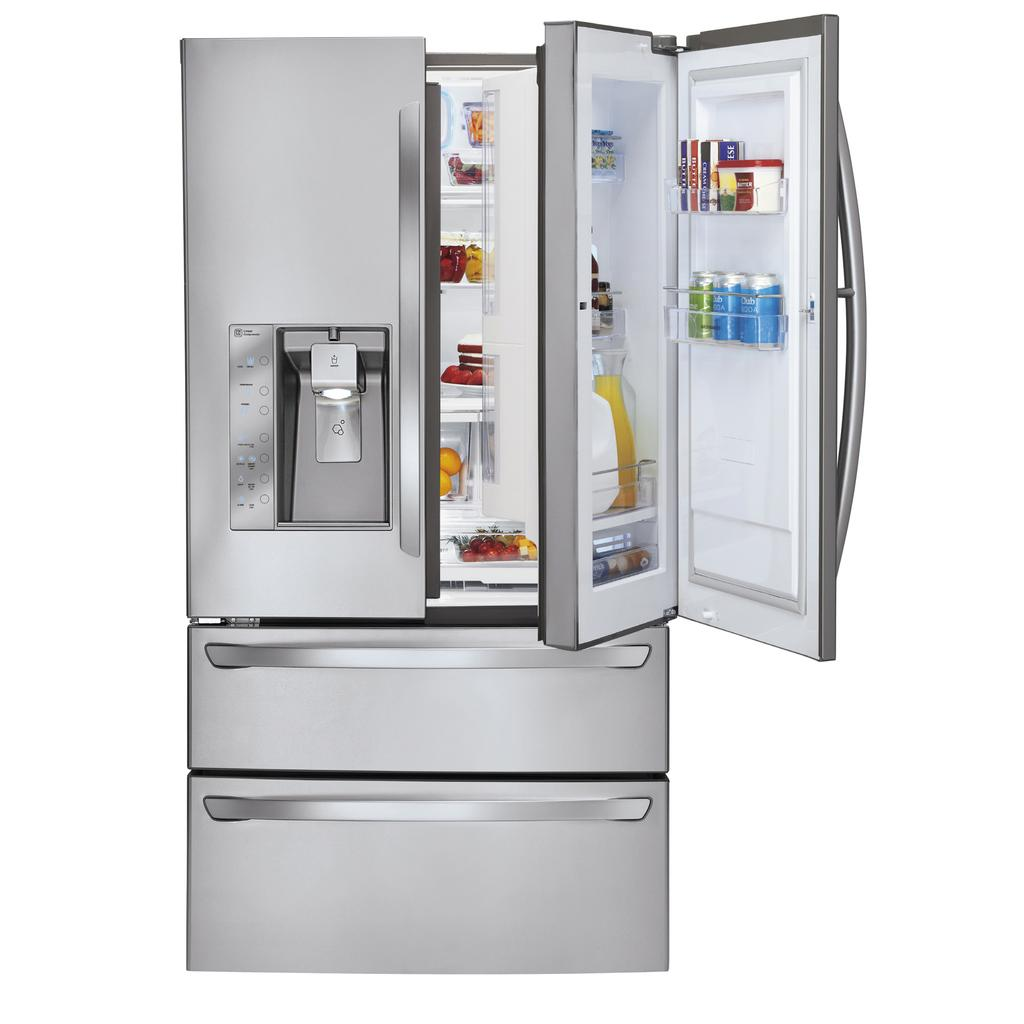handle: (204, 782, 651, 830), (206, 636, 652, 680), (828, 91, 870, 542), (390, 101, 426, 553)
